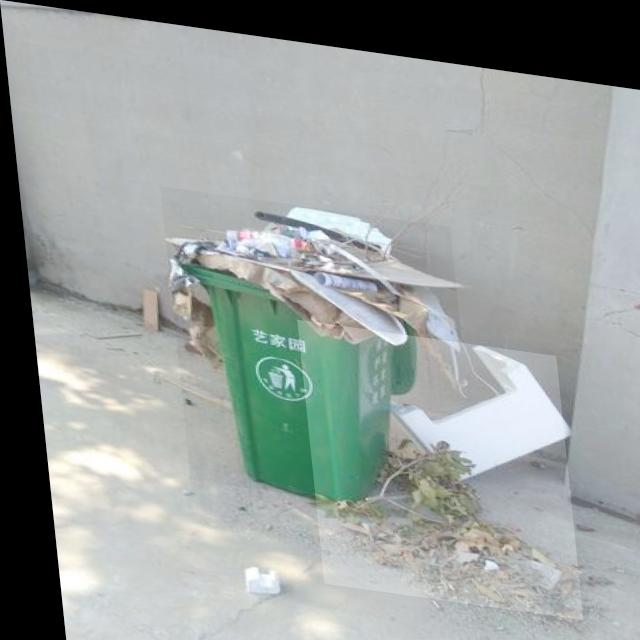garbage: (291, 311, 572, 605)
overflow: (157, 182, 471, 508)
